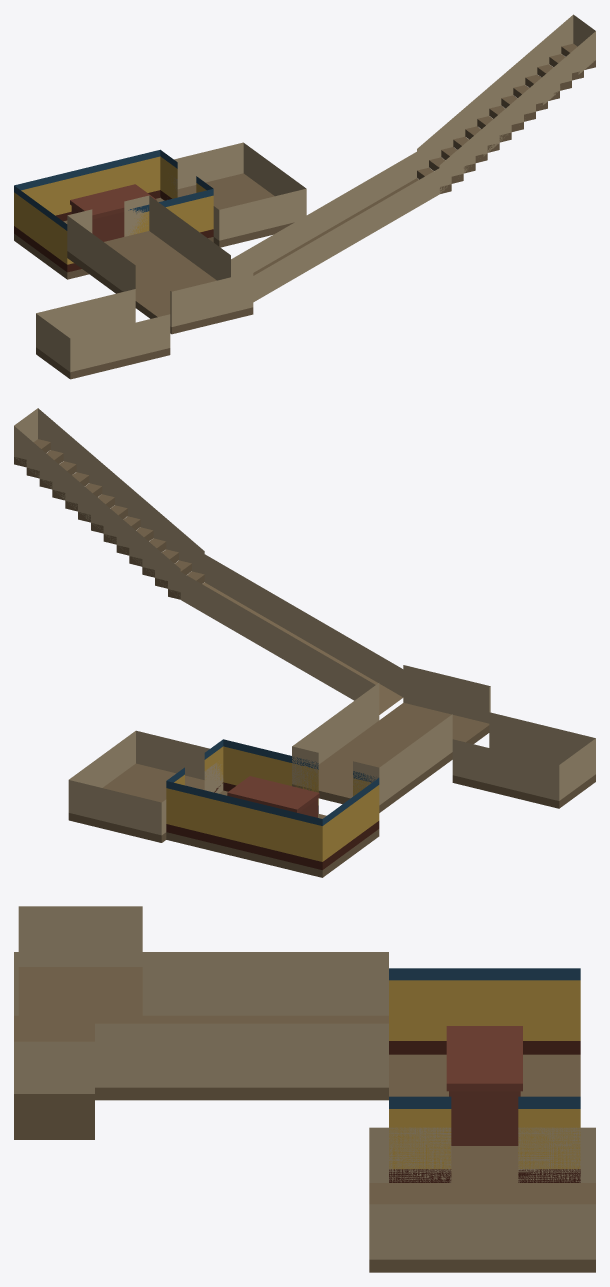
3 views of the same model, one above another, from view 1: azimuth 30°, elevation 25°; view 2: azimuth 150°, elevation 25°; view 3: azimuth 270°, elevation 25° (orthographic). The views are drawn at different scales.
Visible parts, largest first — view 1: Tomb; view 2: Tomb; view 3: Tomb.
Boxes of the visible parts, box(x1,y1,x2,y2) form: Tomb: box(14, 14, 595, 379); Tomb: box(14, 408, 595, 877); Tomb: box(14, 906, 595, 1272).
Bounding box in the file's own units: 0.4562 × 0.1842 × 0.244.
